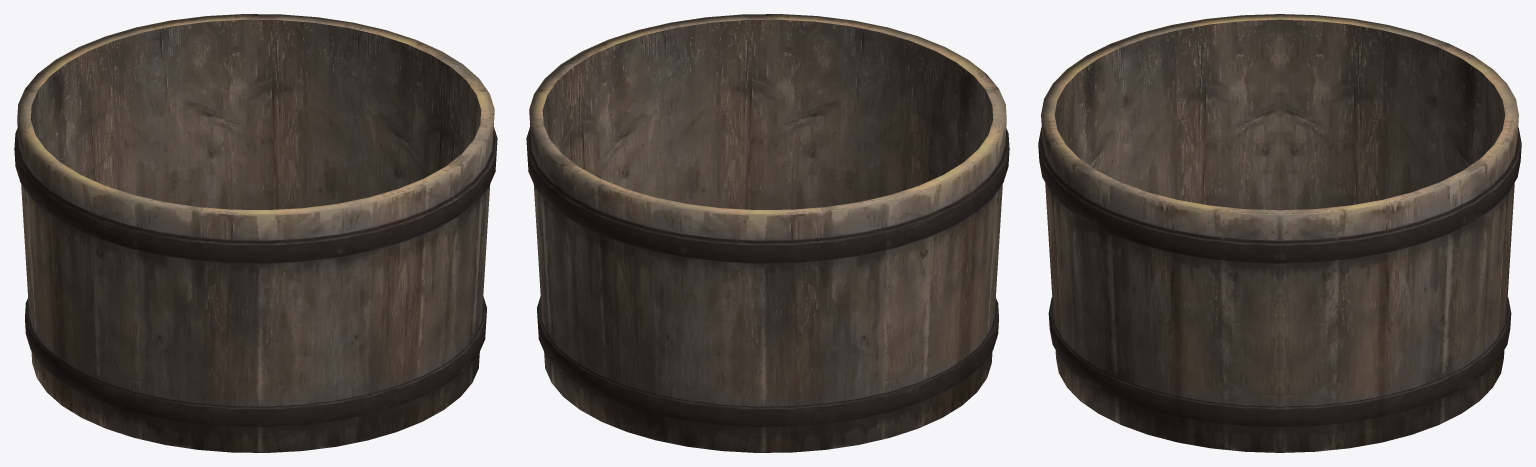
Rendered from prop_bucket_01.glb.
3 renders of one model, left to right at view 1: azimuth 30°, elevation 25°; view 2: azimuth 150°, elevation 25°; view 3: azimuth 270°, elevation 25°, orthographic.
Visible parts, largest first — view 1: prop_bucket_01; view 2: prop_bucket_01; view 3: prop_bucket_01.
Part boxes in pixels (x1=…): prop_bucket_01: x1=14, y1=14, x2=497, y2=452; prop_bucket_01: x1=526, y1=14, x2=1009, y2=452; prop_bucket_01: x1=1038, y1=14, x2=1521, y2=452.
Bounding box in the file's own units: 0.9838 × 0.5463 × 0.9838.
Materials: 1 (1 with a texture image).
